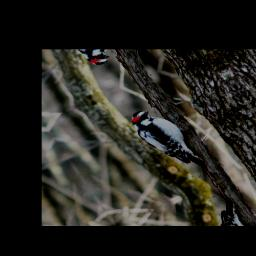Woodpecker: (124, 100, 214, 184)
